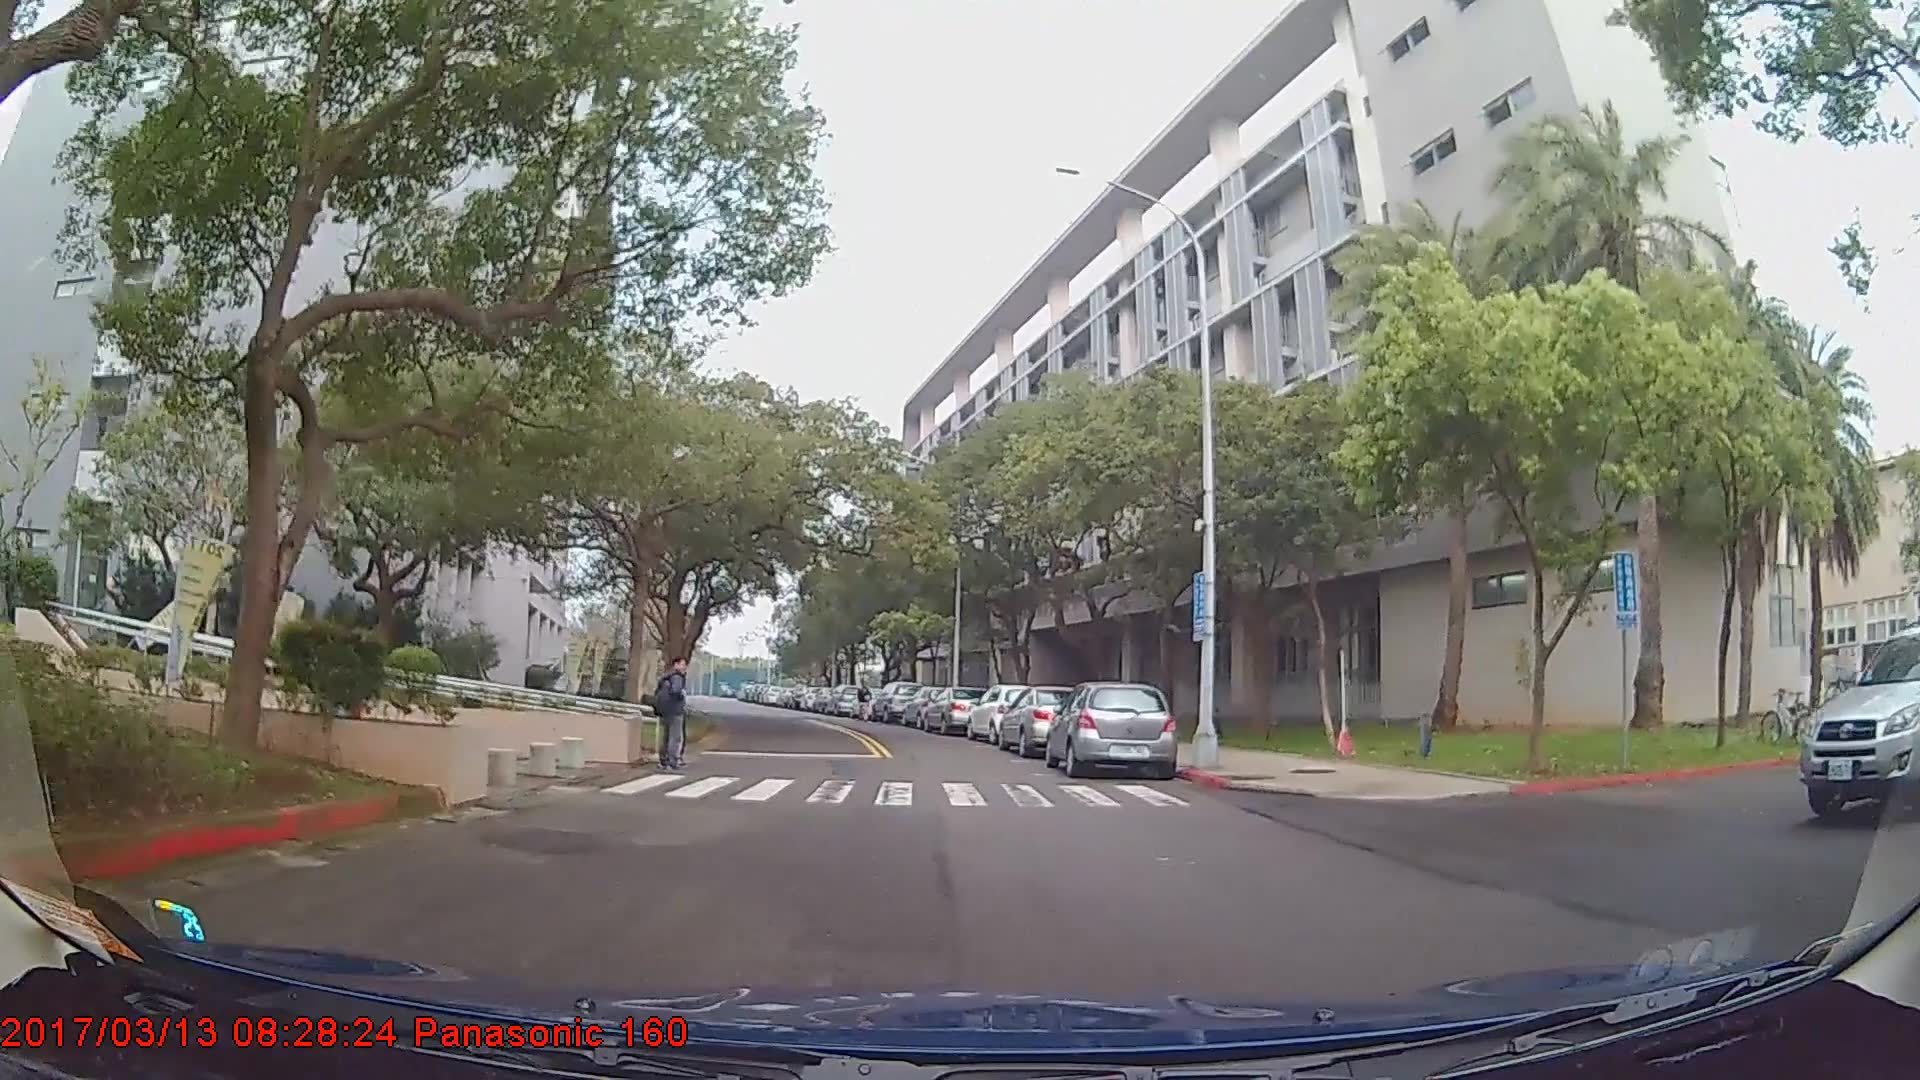pedestrian: (656, 657, 699, 779), (856, 680, 876, 724)
vehicle: (1798, 627, 1920, 822), (1045, 678, 1176, 777), (995, 685, 1090, 756), (966, 681, 1051, 743), (922, 684, 990, 735), (870, 678, 923, 721)
